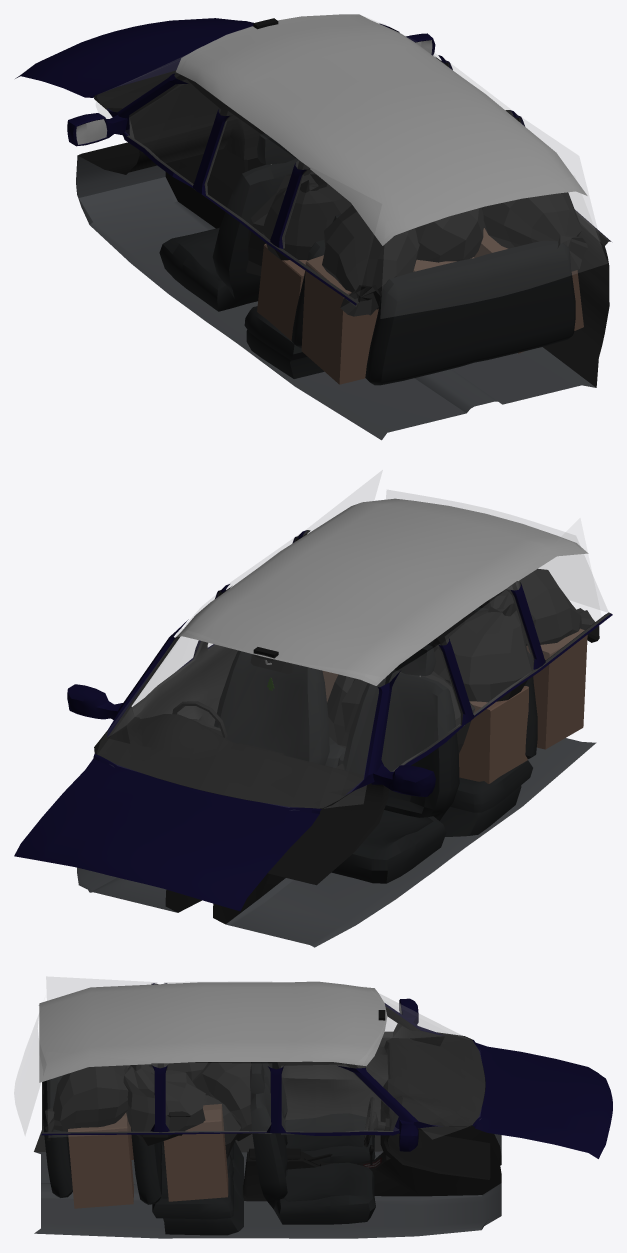
Rendered from CAR_INTERIOR.fbx.
3 renders of one model, top to bottom at view 1: azimuth 30°, elevation 25°; view 2: azimuth 150°, elevation 25°; view 3: azimuth 270°, elevation 25°, orthographic. The views are drawn at different scales.
Visible parts, largest first — view 1: body, windows back, garbage bags, boxes, windows front, windshield; view 2: body, windshield, windows back, garbage bags, boxes, windows front; view 3: body, windows back, garbage bags, windshield, boxes, windows front, steering wheel.
Part boxes in pixels (box(x1,y1,x2,y2)): body: box(15, 14, 611, 440); windows back: box(206, 60, 606, 318); garbage bags: box(246, 169, 587, 316); boxes: box(257, 228, 583, 384); windows front: box(126, 36, 439, 183); windshield: box(96, 18, 384, 118); body: box(14, 498, 612, 947); windshield: box(98, 628, 385, 807); windows back: box(227, 471, 607, 714); garbage bags: box(327, 569, 599, 753); boxes: box(322, 628, 587, 783); windows front: box(184, 593, 460, 771); body: box(34, 981, 612, 1238); windows back: box(14, 977, 271, 1136); garbage bags: box(45, 1062, 251, 1159); windshield: box(355, 993, 484, 1138); boxes: box(68, 1104, 228, 1208); windows front: box(281, 1065, 398, 1131); steering wheel: box(364, 1097, 385, 1147).
Size of the model in its own units: 315 by 195 by 576.
